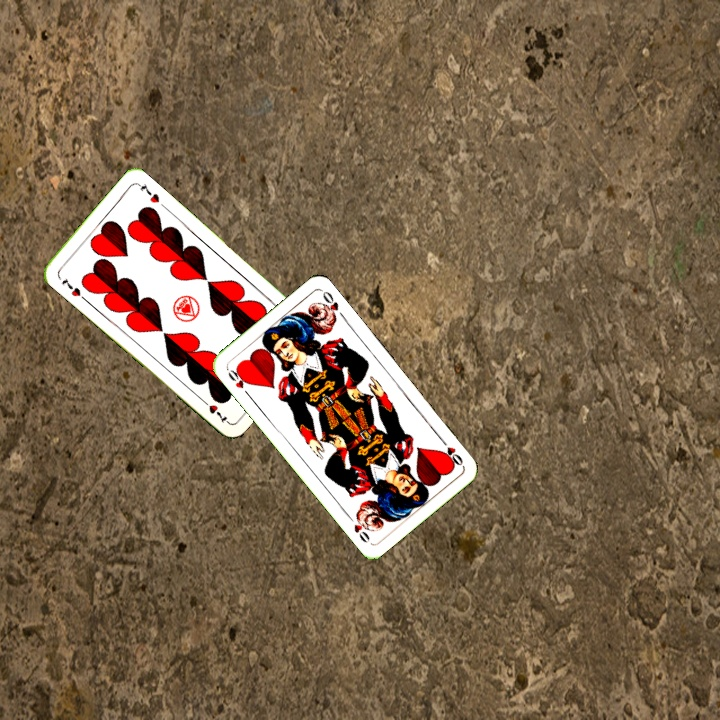H7: (57, 274, 84, 299)
HO: (223, 364, 253, 399), (436, 434, 465, 468)
